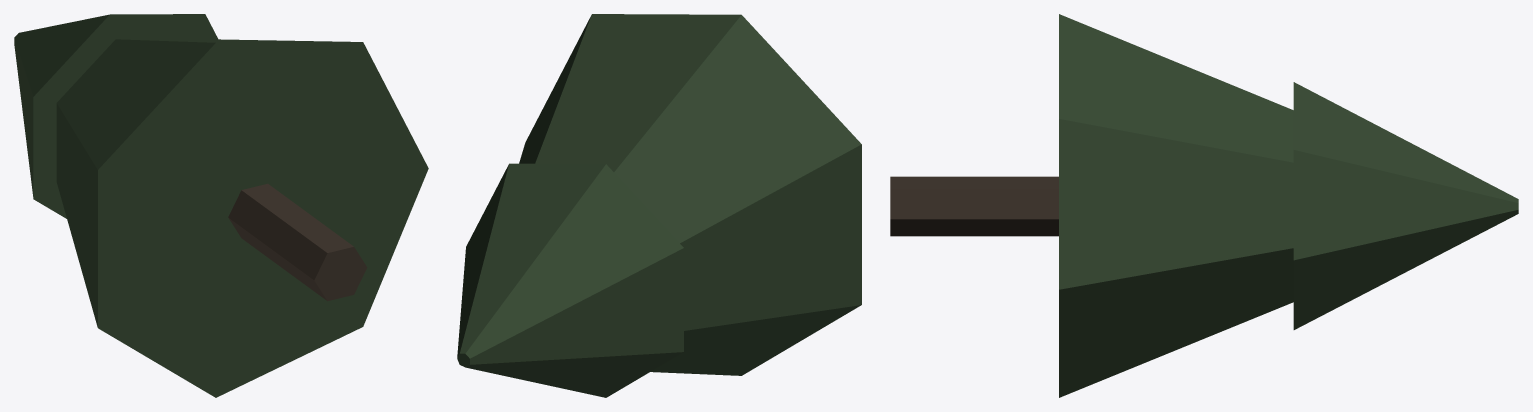
Rendered from tree_pine.glb.
3 renders of one model, left to right at view 1: azimuth 30°, elevation 25°; view 2: azimuth 150°, elevation 25°; view 3: azimuth 270°, elevation 25°, orthographic. The views are drawn at different scales.
Visible parts, largest first — view 1: Body; view 2: Body; view 3: Body.
Boxes of the visible parts, box(x1,y1,x2,y2) form: Body: box(14, 14, 428, 397); Body: box(457, 14, 861, 397); Body: box(890, 14, 1518, 397).
Size of the model in its own units: 2 by 2.05 by 3.35.
